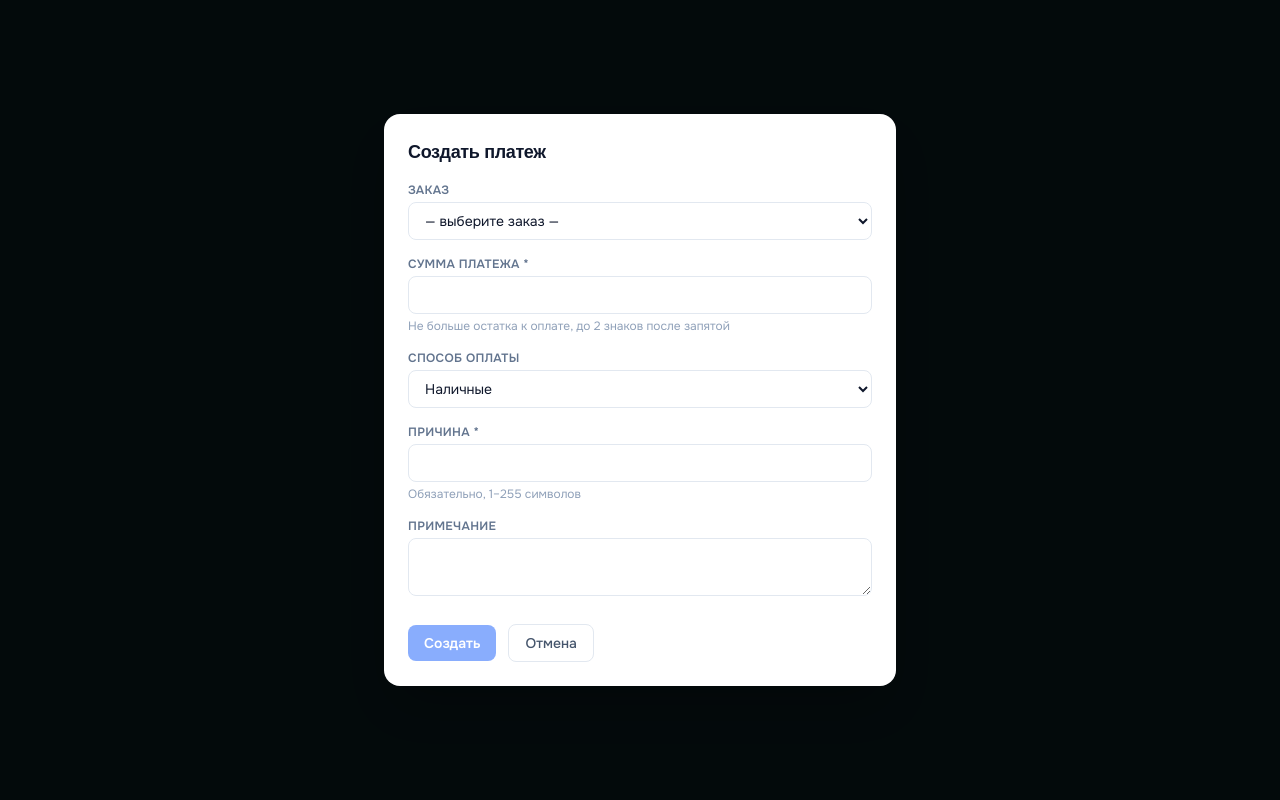
Test: CreatePaymentForm — form opens, order selector, editable amount (§9 MULTI/PARTIAL) › некорректная сумма (0 / > due / >2 знаков) — inline error + submit заблокирован
Select "MKT-ORD-0001 · 1 250,00 AZN" in the dropdown with test id "create-payment-order-select" at (640, 221), box [408, 202, 872, 240]
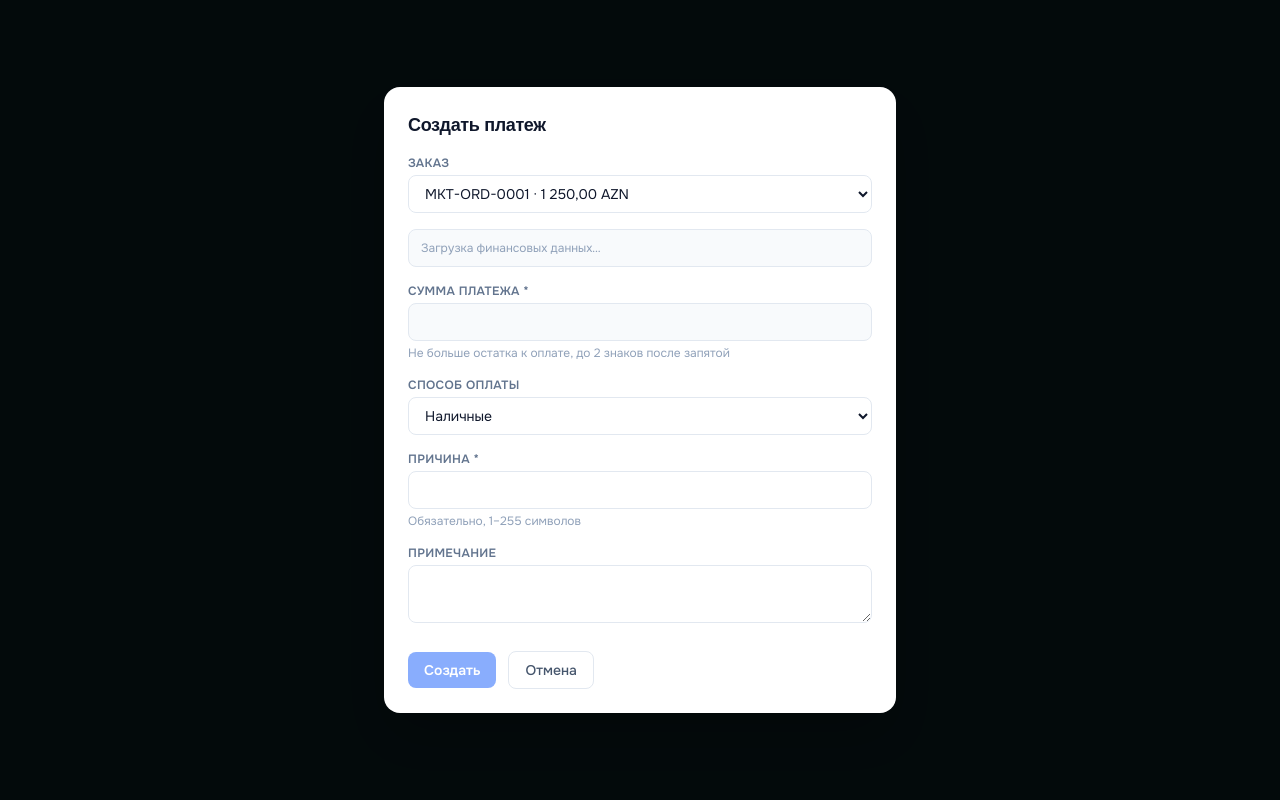
Type "Оплата наличными" into the field with test id "create-payment-reason".
click(640, 490); type("Оплата наличными")  # box [408, 471, 872, 509]
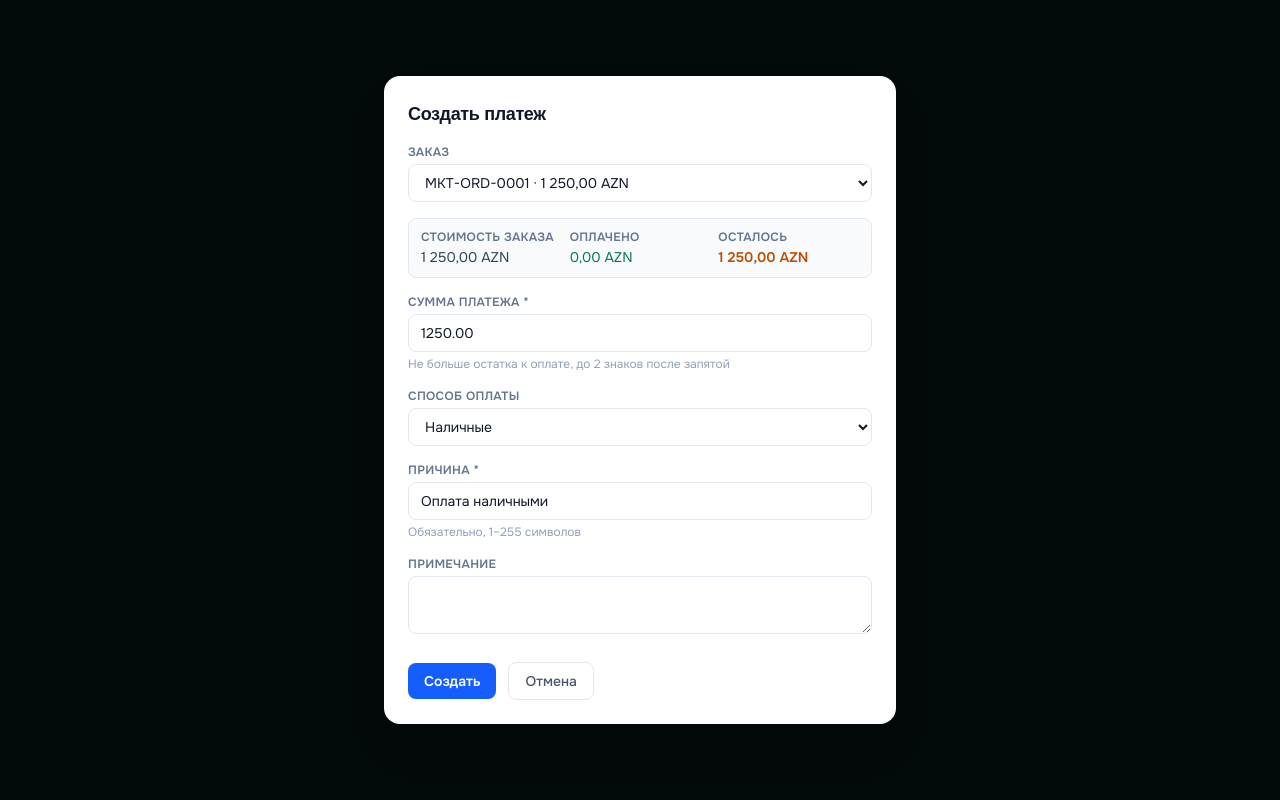
Expected: the button with test id "create-payment-submit" is enabled, [408, 663, 496, 699]
Expected: the field with test id "create-payment-amount" holds "1250.00"
Type "0" into the field with test id "create-payment-amount".
click(640, 333); type("0")  # box [408, 314, 872, 352]
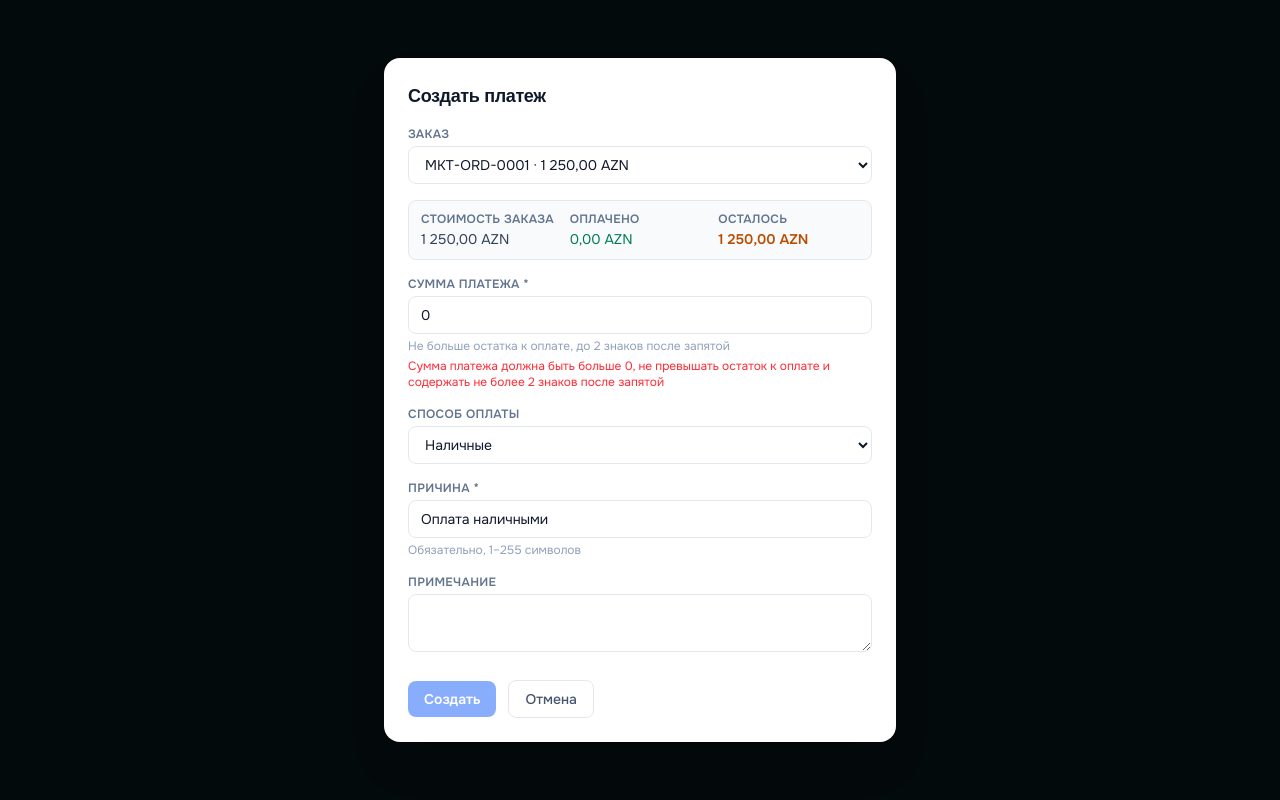
Expected: the message with test id "create-payment-amount-error" is shown, [408, 358, 872, 390]
Expected: the button with test id "create-payment-submit" is disabled, [408, 681, 496, 717]
Replace the text in the field with test id "create-payment-amount" with "9999.99" at (640, 315), box [408, 296, 872, 334]
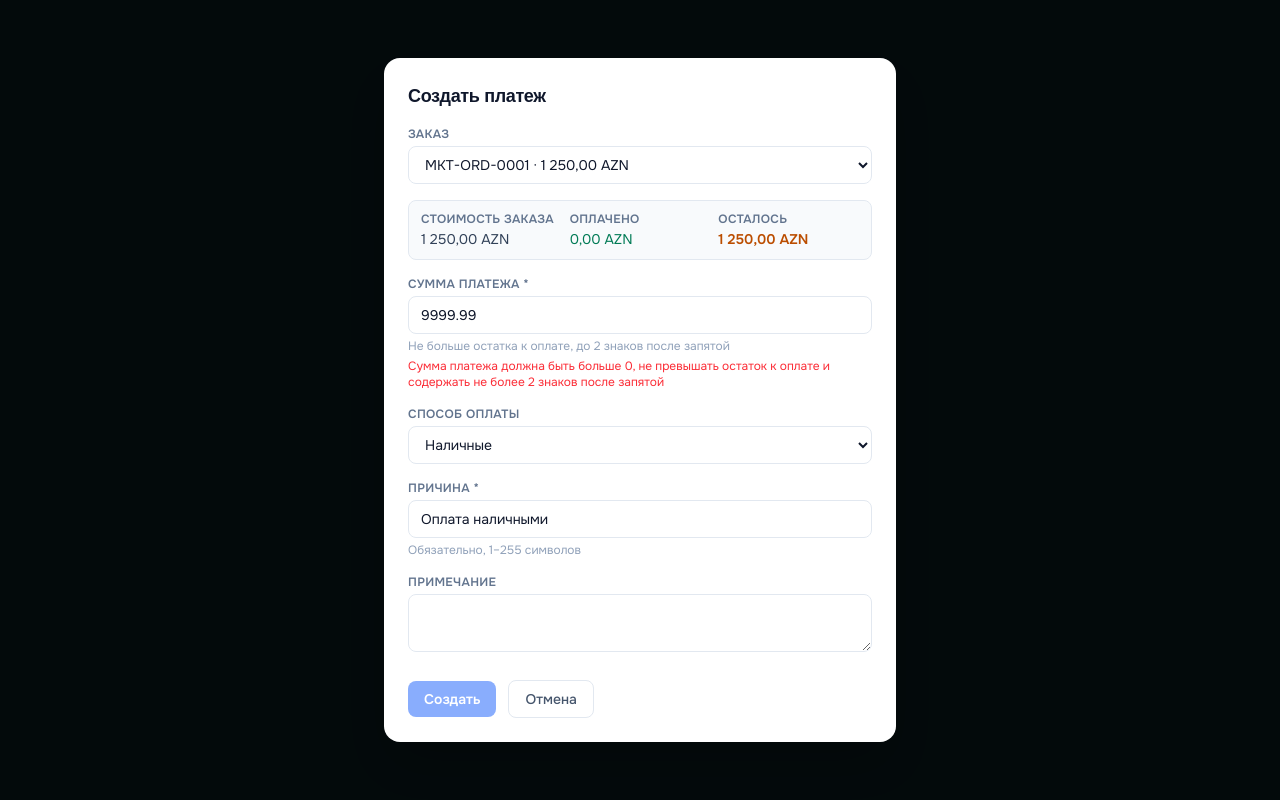
Expected: the message with test id "create-payment-amount-error" is shown, [408, 358, 872, 390]
Expected: the button with test id "create-payment-submit" is disabled, [408, 681, 496, 717]
Replace the text in the field with test id "create-payment-amount" with "10.999" at (640, 315), box [408, 296, 872, 334]
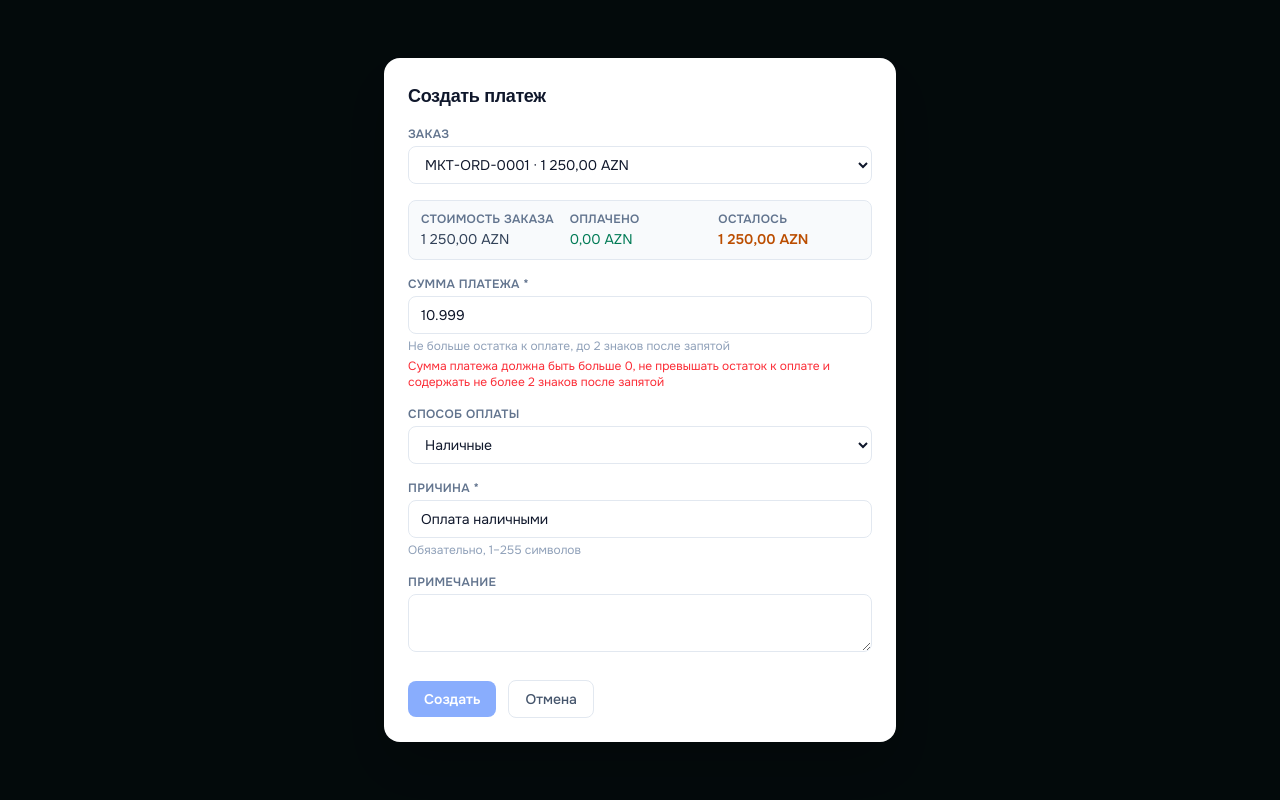
Expected: the message with test id "create-payment-amount-error" is shown, [408, 358, 872, 390]
Expected: the button with test id "create-payment-submit" is disabled, [408, 681, 496, 717]
Replace the text in the field with test id "create-payment-amount" with "100.50" at (640, 315), box [408, 296, 872, 334]
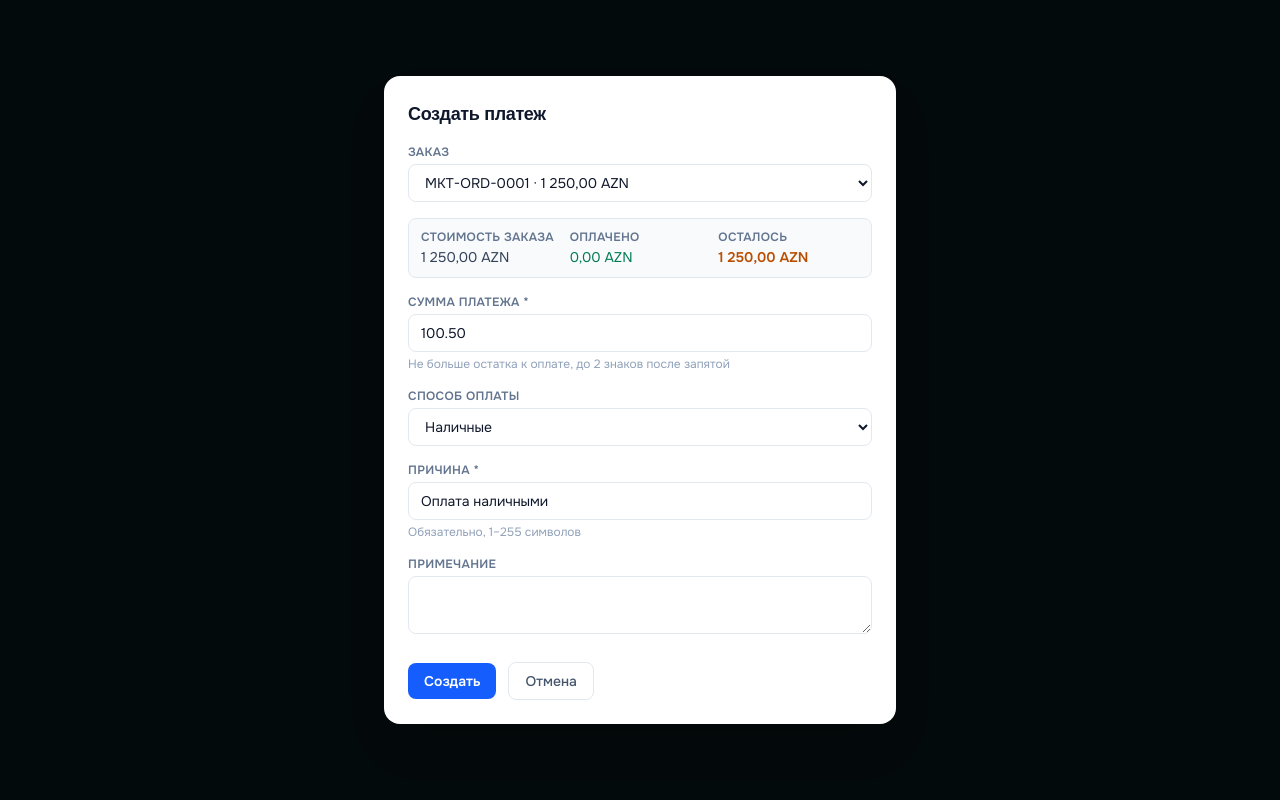
Expected: the message with test id "create-payment-amount-error" is gone
Expected: the button with test id "create-payment-submit" is enabled, [408, 663, 496, 699]
